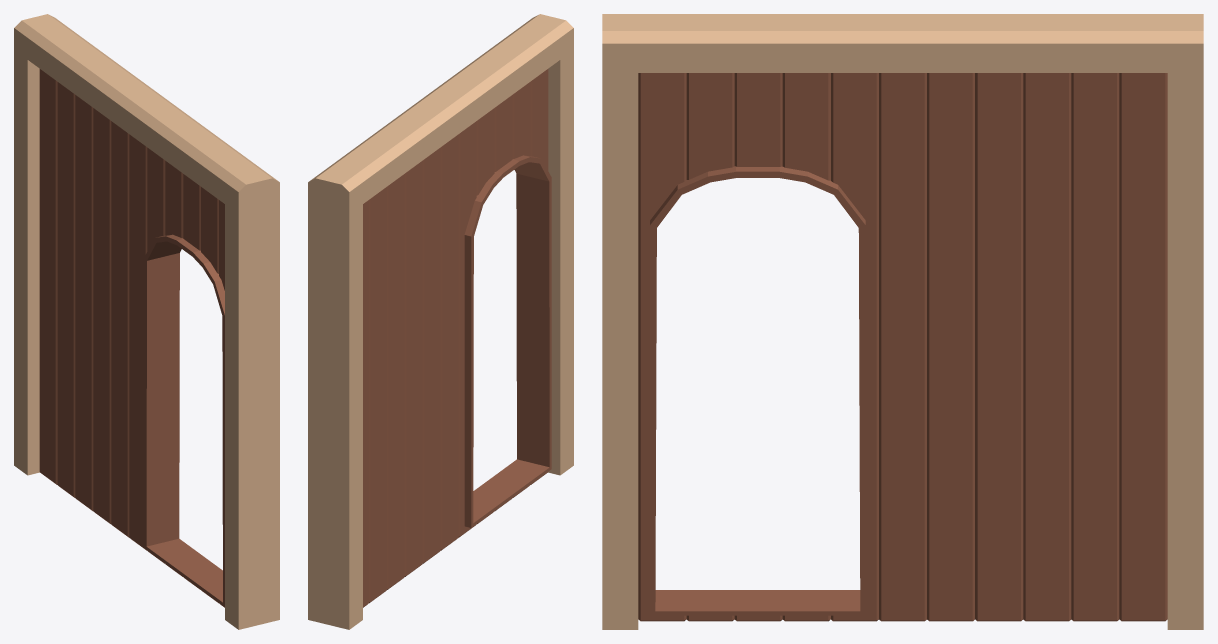
The model's file is Door Frame B.fbx.
The picture shows the model from 3 angles, left to right: view 1: azimuth 30°, elevation 25°; view 2: azimuth 150°, elevation 25°; view 3: azimuth 270°, elevation 25°; orthographic projection. The views are drawn at different scales.
Parts seen in each view (by area): view 1: Door Frame B; view 2: Door Frame B; view 3: Door Frame B.
Boxes of the visible parts, <box> form: Door Frame B: <box>14,14,279,629</box>; Door Frame B: <box>308,14,573,629</box>; Door Frame B: <box>602,14,1203,629</box>.
Size of the model in its own units: 28.27 by 291 by 267.
